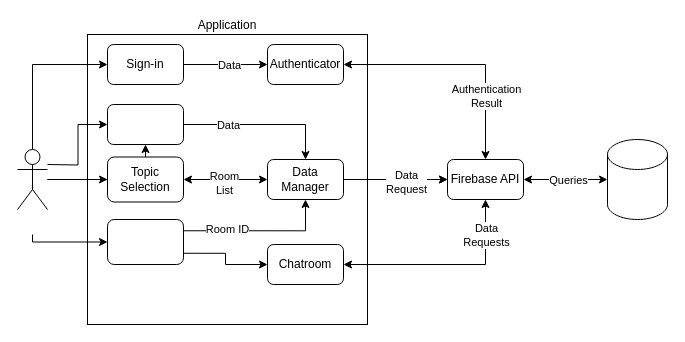
Some shapes in this 685 by 342 pixel diagram are drawn without their labels. Here are the shapes that lost their labels. From the top down, the centre of each, then its label:
At [145,124]: "Edit Profile".
At [32,179]: "User".
At [637,179]: "Database".
At [145,241]: "Room Selection".
